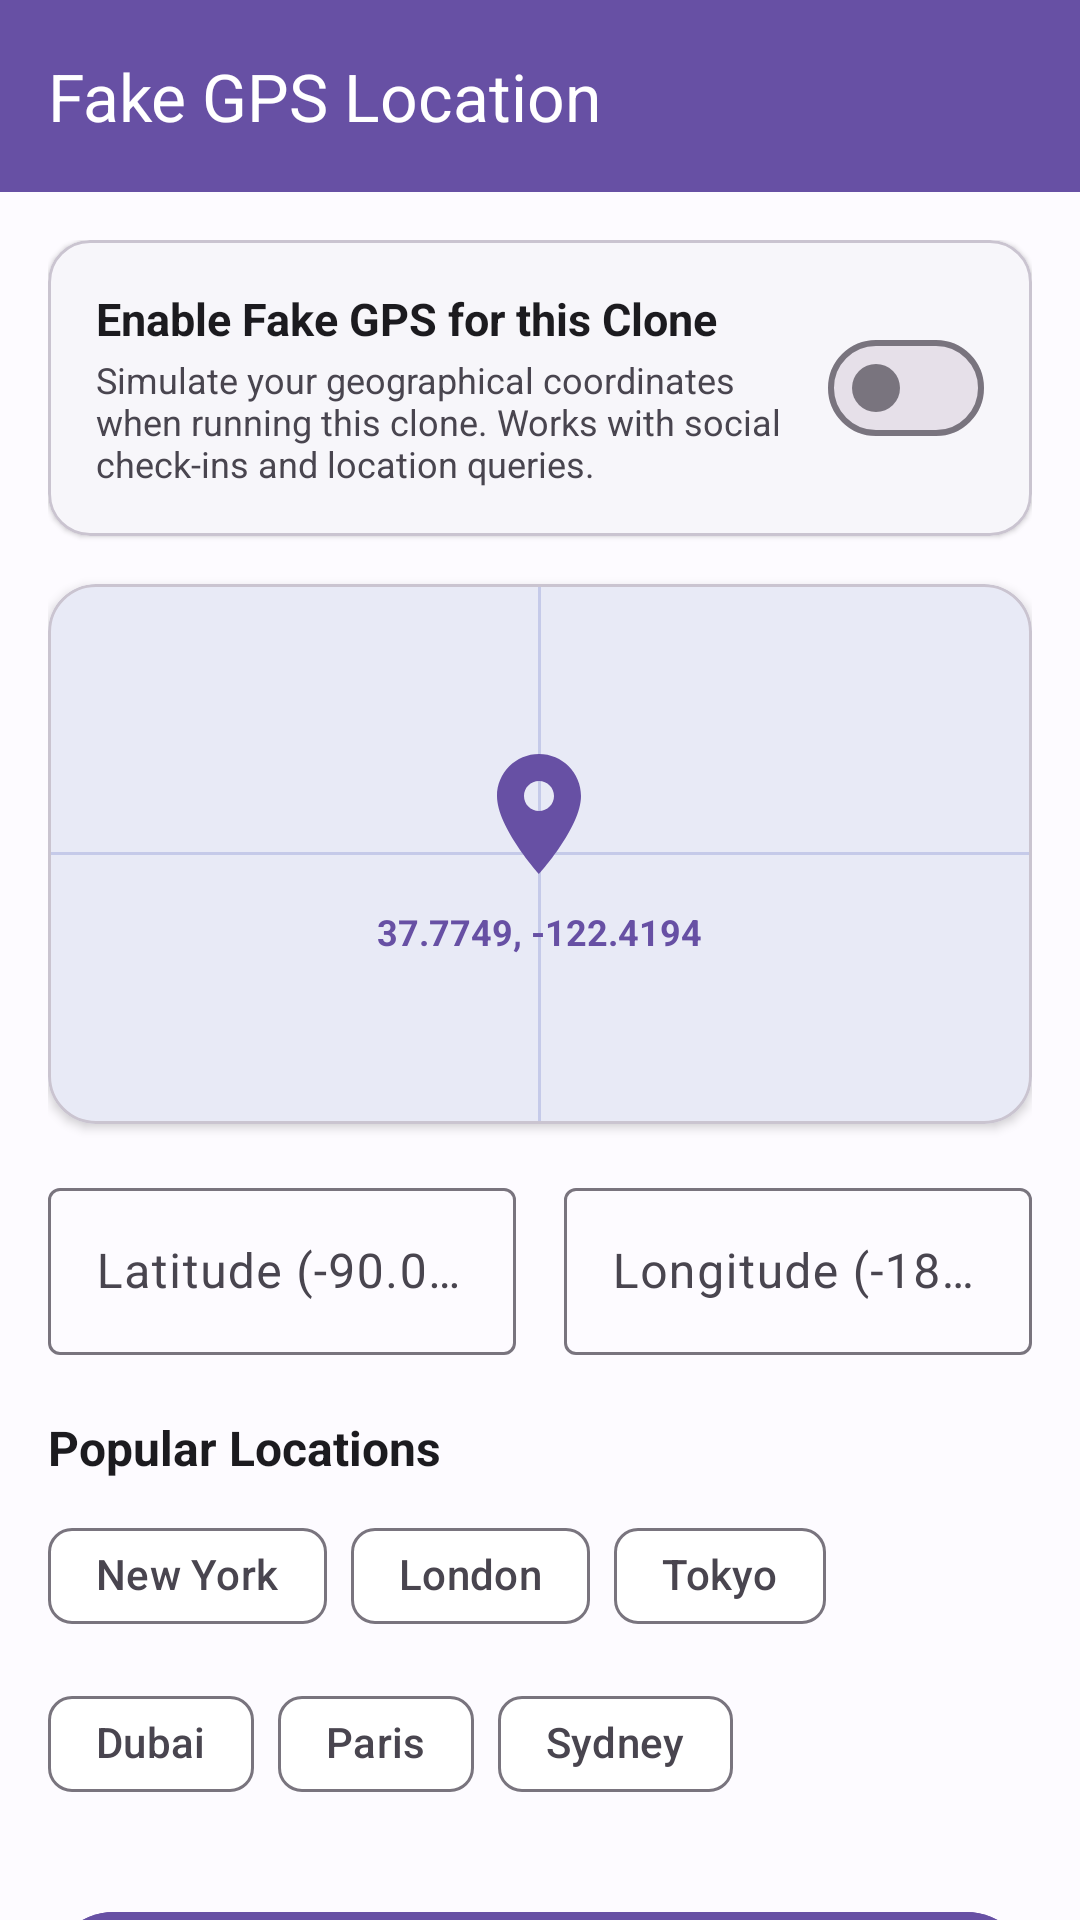

Screen size 1080*1920. Icon name, then its box in pixels as (x1, y1, x2, y2):
location: (467, 742, 611, 886)
